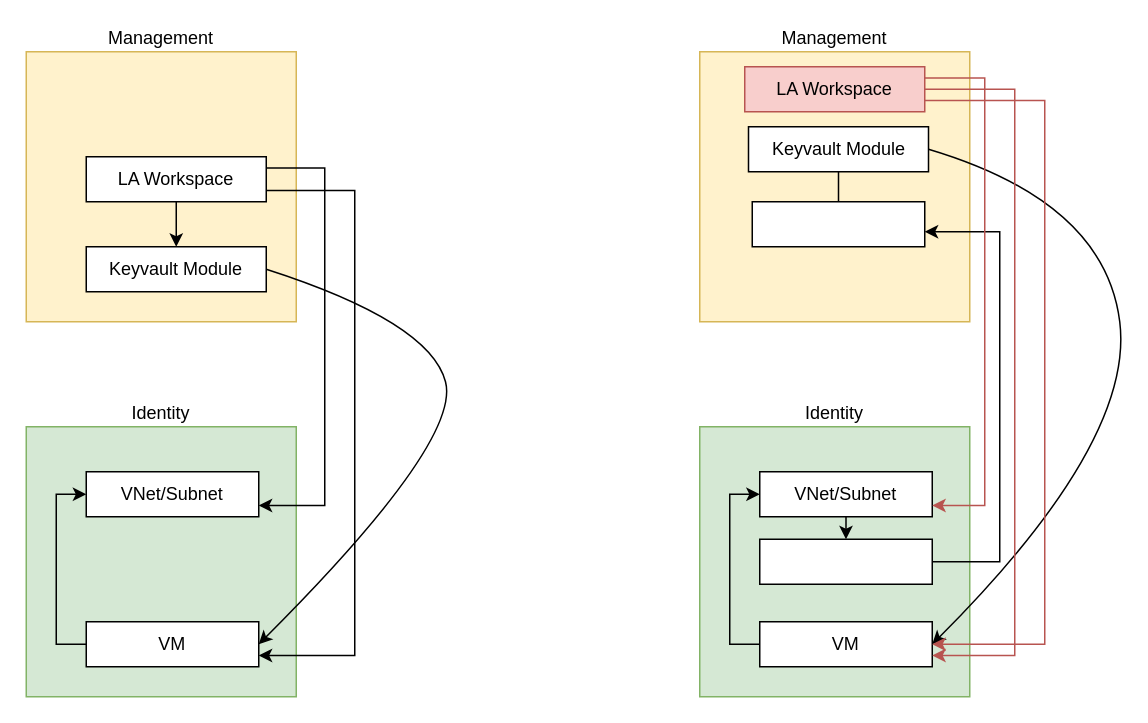
Image size: 1148x723. Some labels were removed from this diagram. The shapes that lost their labels are listed below. From the top down, each one's box as (x1, y1, x2, y2) in pixels, then its label:
(751, 200, 925, 247): Private Endpoint
(758, 538, 932, 584): DNS Zones
